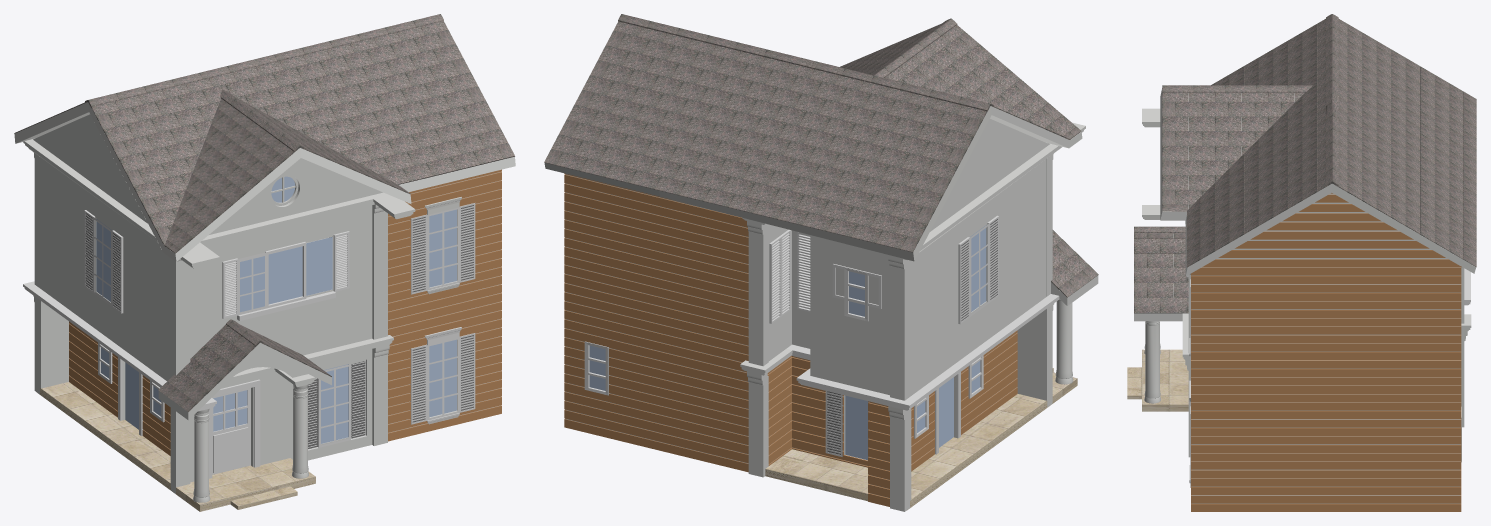
The model's file is rumah.glb.
3 renders of one model, left to right at view 1: azimuth 30°, elevation 25°; view 2: azimuth 150°, elevation 25°; view 3: azimuth 270°, elevation 25°, orthographic. The views are drawn at different scales.
Visible parts, largest first — view 1: Plane.033, dinding atas, Plane.029, Cube.006, Plane.034, Cube.023, Plane.025, Plane.002, Cube.021, Plane, Plane.030, Plane.047 (+51 smaller); view 2: Plane.035, Plane.029, dinding atas, Cube.023, Plane.034, Cube.006, Plane.025, Plane, Plane.030, Cube.016, Plane.039, Cube.043 (+22 smaller); view 3: Plane.029, Plane.035, Plane.033, Plane.036, Plane.032, dinding atas, Plane.048, Plane.025, Cube.006, Plane.039, Plane, Cube.023 (+5 smaller).
Boxes of the visible parts, bbox=[...] form: Plane.033: bbox=[91, 21, 514, 245]; dinding atas: bbox=[40, 157, 500, 381]; Plane.029: bbox=[388, 169, 501, 441]; Cube.006: bbox=[39, 300, 500, 483]; Plane.034: bbox=[164, 98, 299, 253]; Cube.023: bbox=[38, 382, 315, 511]; Plane.025: bbox=[14, 102, 515, 261]; Plane.002: bbox=[209, 158, 382, 234]; Cube.021: bbox=[23, 138, 389, 268]; Plane: bbox=[33, 114, 147, 223]; Plane.030: bbox=[69, 321, 170, 455]; Plane.047: bbox=[158, 324, 259, 411]; Plane.035: bbox=[544, 21, 986, 252]; Plane.029: bbox=[564, 173, 889, 506]; dinding atas: bbox=[565, 158, 1047, 396]; Cube.023: bbox=[765, 372, 1077, 509]; Plane.034: bbox=[885, 25, 1081, 139]; Cube.006: bbox=[565, 308, 1048, 500]; Plane.025: bbox=[544, 106, 1082, 261]; Plane: bbox=[930, 119, 1049, 231]; Plane.030: bbox=[911, 330, 1017, 471]; Cube.016: bbox=[786, 294, 1059, 410]; Plane.039: bbox=[618, 14, 993, 111]; Cube.043: bbox=[747, 221, 768, 366]; Plane.029: bbox=[1191, 267, 1461, 511]; Plane.035: bbox=[1338, 19, 1476, 266]; Plane.033: bbox=[1186, 19, 1325, 267]; Plane.036: bbox=[1162, 92, 1304, 211]; Plane.032: bbox=[1202, 193, 1461, 267]; dinding atas: bbox=[1191, 275, 1460, 410]; Plane.048: bbox=[1134, 233, 1188, 313]; Plane.025: bbox=[1160, 88, 1476, 276]; Cube.006: bbox=[1191, 419, 1460, 503]; Plane.039: bbox=[1326, 14, 1338, 186]; Plane: bbox=[1202, 193, 1462, 267]; Cube.023: bbox=[1142, 349, 1188, 411].
Size of the model in its own units: 15.31 by 14.19 by 13.4.
Materials: 7 (2 with a texture image).
